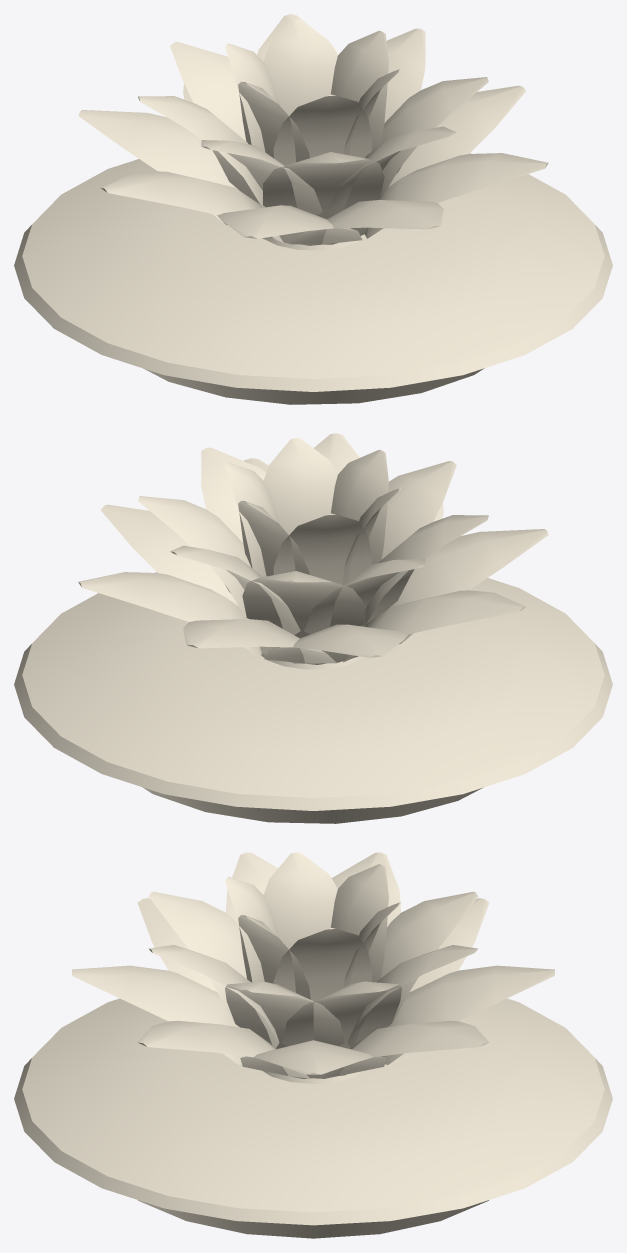
The model's file is pool_lantern_lotus.glb.
3 renders of one model, top to bottom at view 1: azimuth 30°, elevation 25°; view 2: azimuth 150°, elevation 25°; view 3: azimuth 270°, elevation 25°, orthographic.
Parts seen in each view (by area): view 1: pool_lantern_lotus; view 2: pool_lantern_lotus; view 3: pool_lantern_lotus.
Boxes of the visible parts, bbox=[...] form: pool_lantern_lotus: bbox=[14, 14, 612, 404]; pool_lantern_lotus: bbox=[14, 433, 612, 823]; pool_lantern_lotus: bbox=[14, 852, 612, 1238].
Bounding box in the file's own units: 1.74 × 0.8225 × 1.74.
